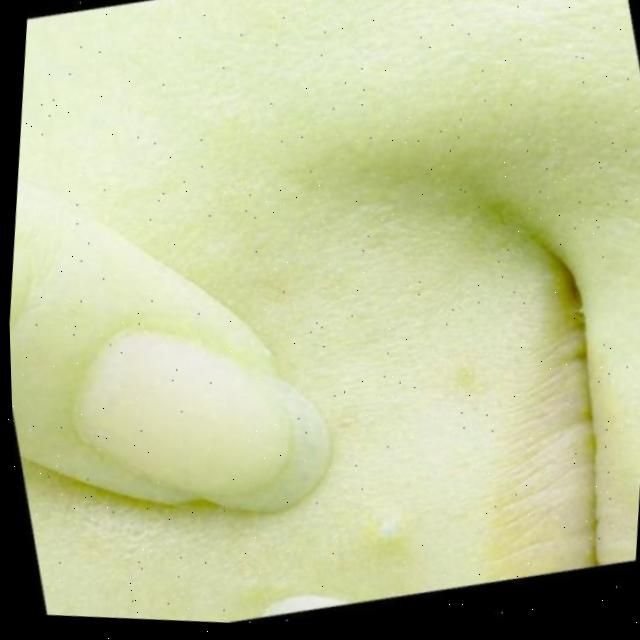Acne: (367, 520, 406, 548)
